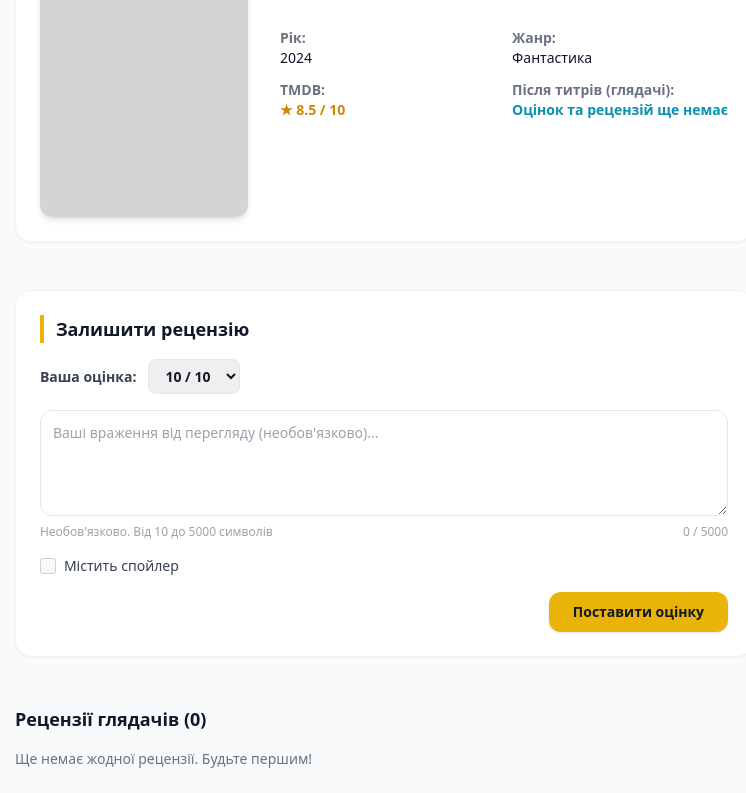
it: MovieDetails review form (FR-003, FR-004) › explains the error when the server says the title is not watched
(page scrolled)
Click the button "Поставити оцінку" at [638, 612], box [549, 592, 728, 632]
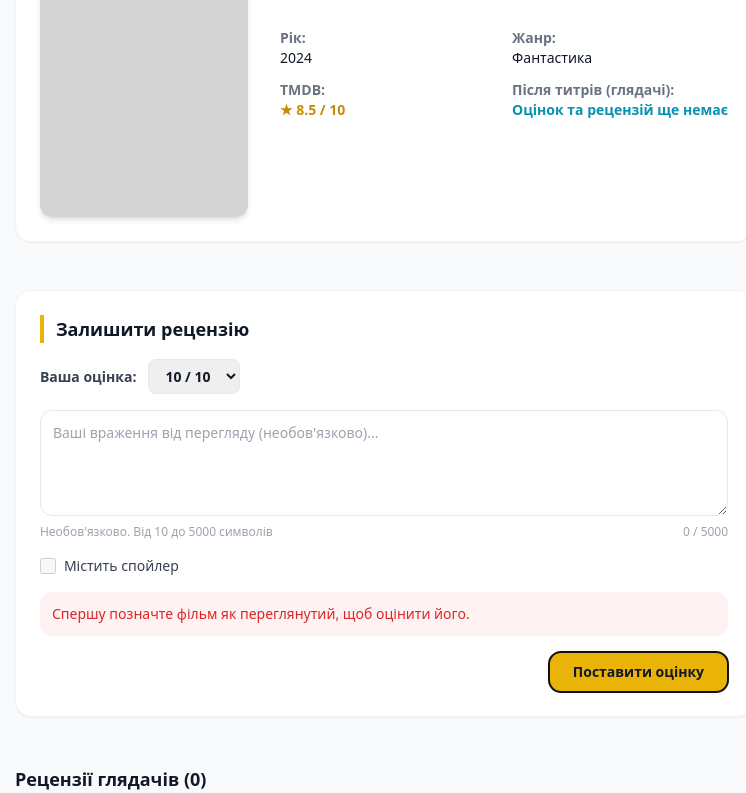
Check: the text "Спершу позначте фільм як переглянутий, щоб оцінити його." is shown, box [40, 592, 728, 636]
